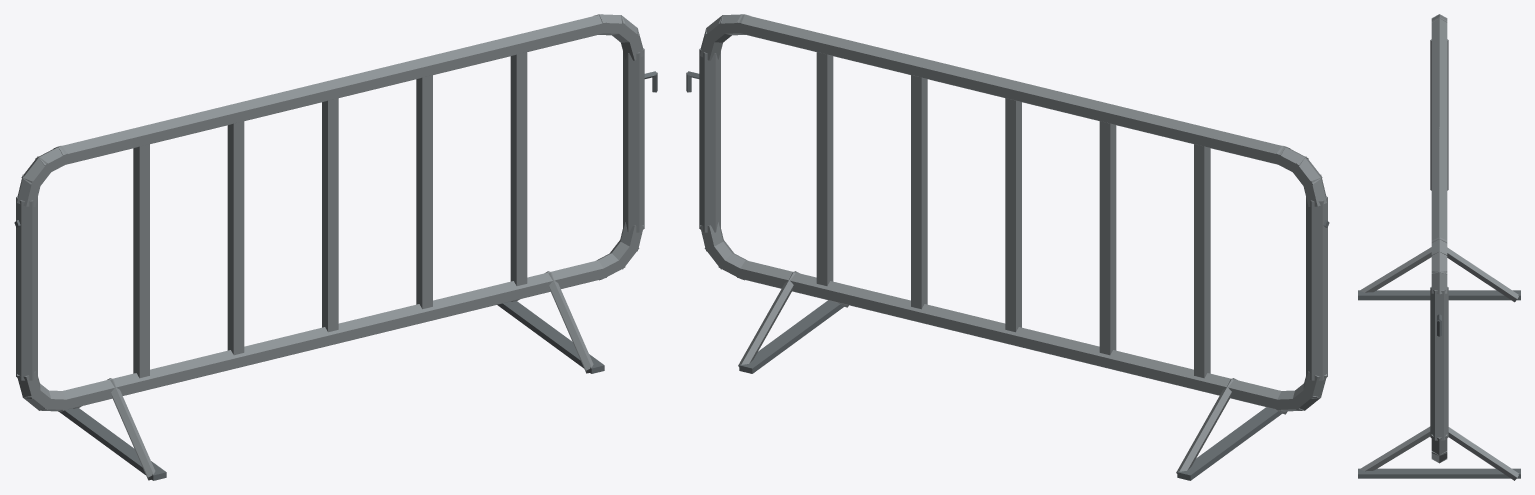
The model's file is lwf_crowd_barrier_v1.glb.
The picture shows the model from 3 angles, left to right: view 1: azimuth 30°, elevation 25°; view 2: azimuth 150°, elevation 25°; view 3: azimuth 270°, elevation 25°; orthographic projection. The views are drawn at different scales.
Visible parts, largest first — view 1: LWF_CrowdBarrier; view 2: LWF_CrowdBarrier; view 3: LWF_CrowdBarrier.
Boxes of the visible parts, box(x1,y1,x2,y2) form: LWF_CrowdBarrier: box(14, 14, 657, 480); LWF_CrowdBarrier: box(686, 14, 1329, 480); LWF_CrowdBarrier: box(1358, 14, 1520, 480).
Bounding box in the file's own units: 2.43 × 1.13 × 0.64.
Materials: 1 (1 with a texture image).
